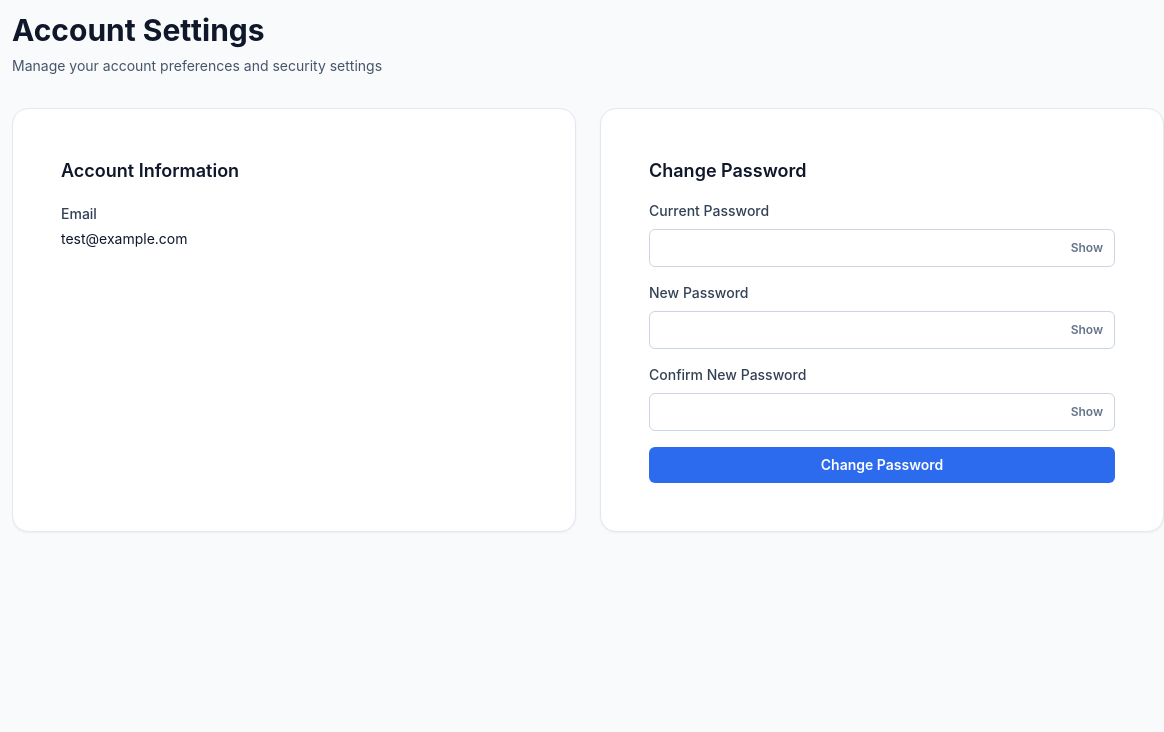
Test: AccountPage › shows error when new password is too short
In the password field labelled "Current Password": (882, 248) [649, 229, 1115, 267], type "currentpass123"
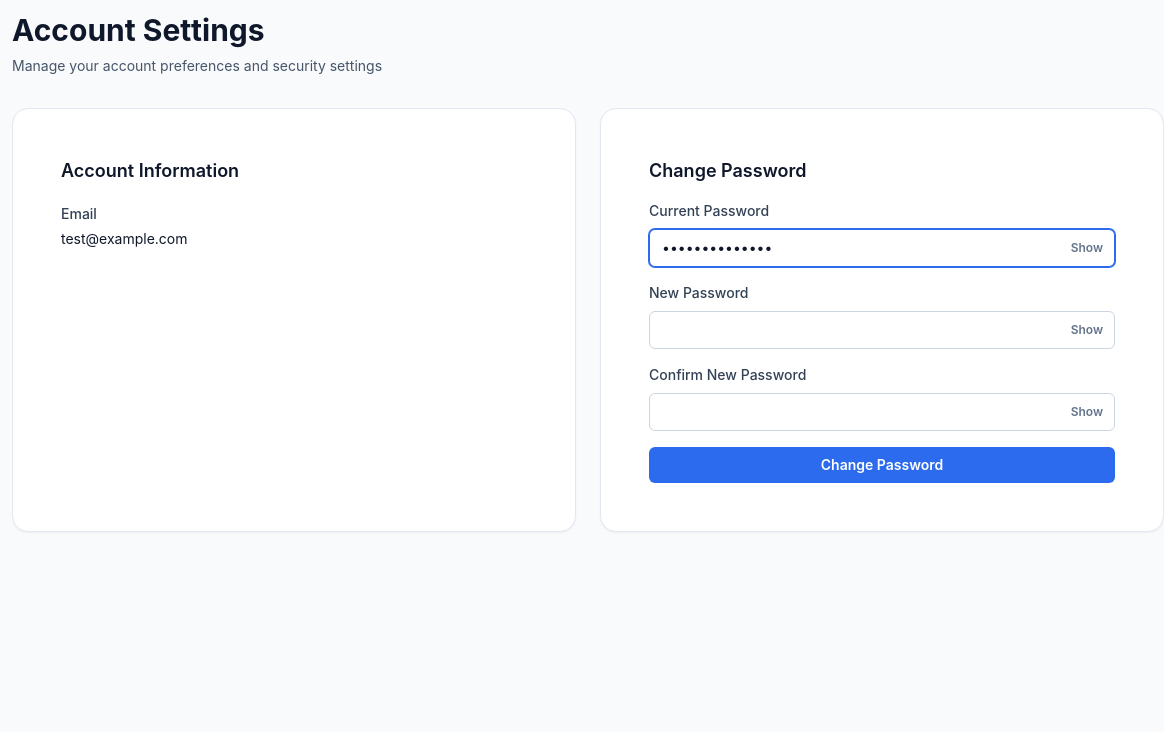
In the password field labelled "New Password": (882, 330) [649, 311, 1115, 349], type "short"
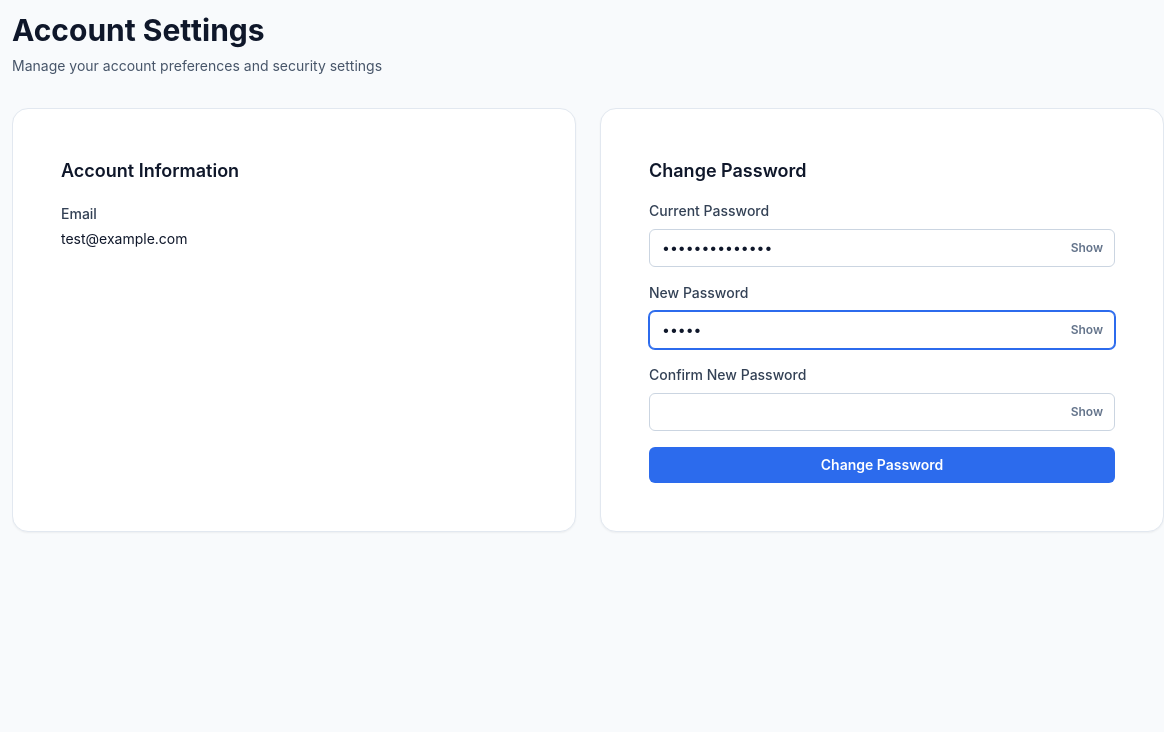
In the password field labelled "Confirm New Password": (882, 412) [649, 393, 1115, 431], type "short"
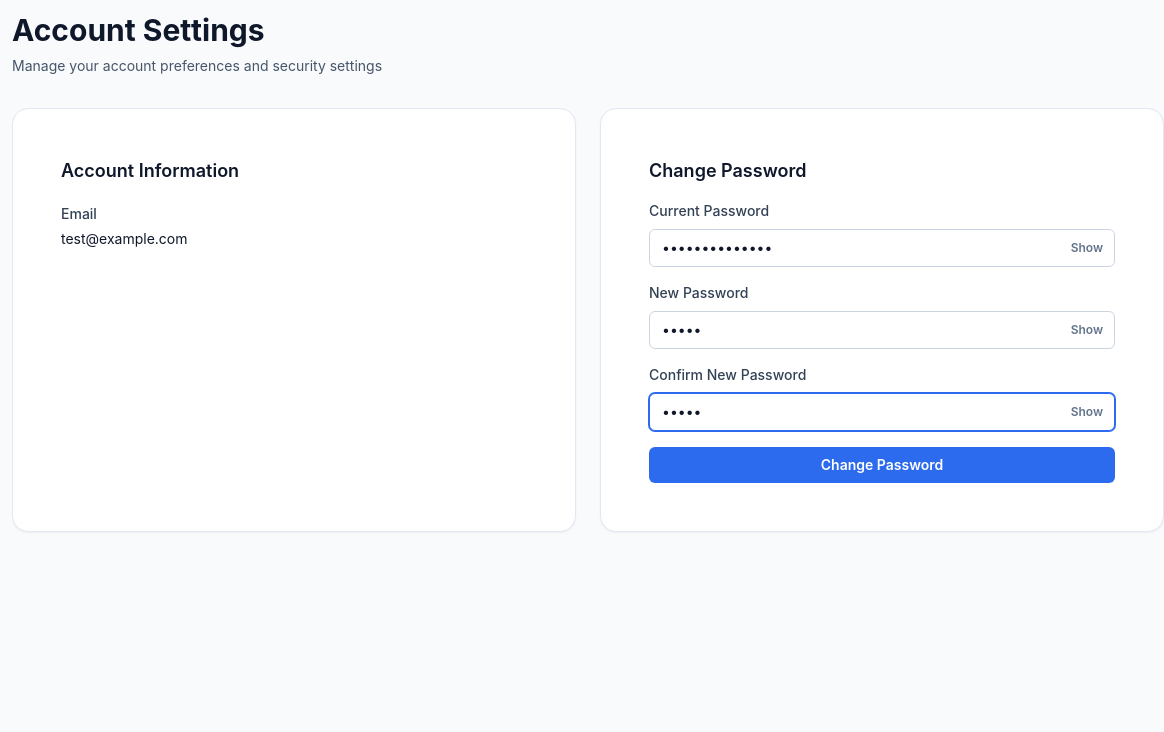
Click the button "Change Password": (882, 465) [649, 447, 1115, 483]
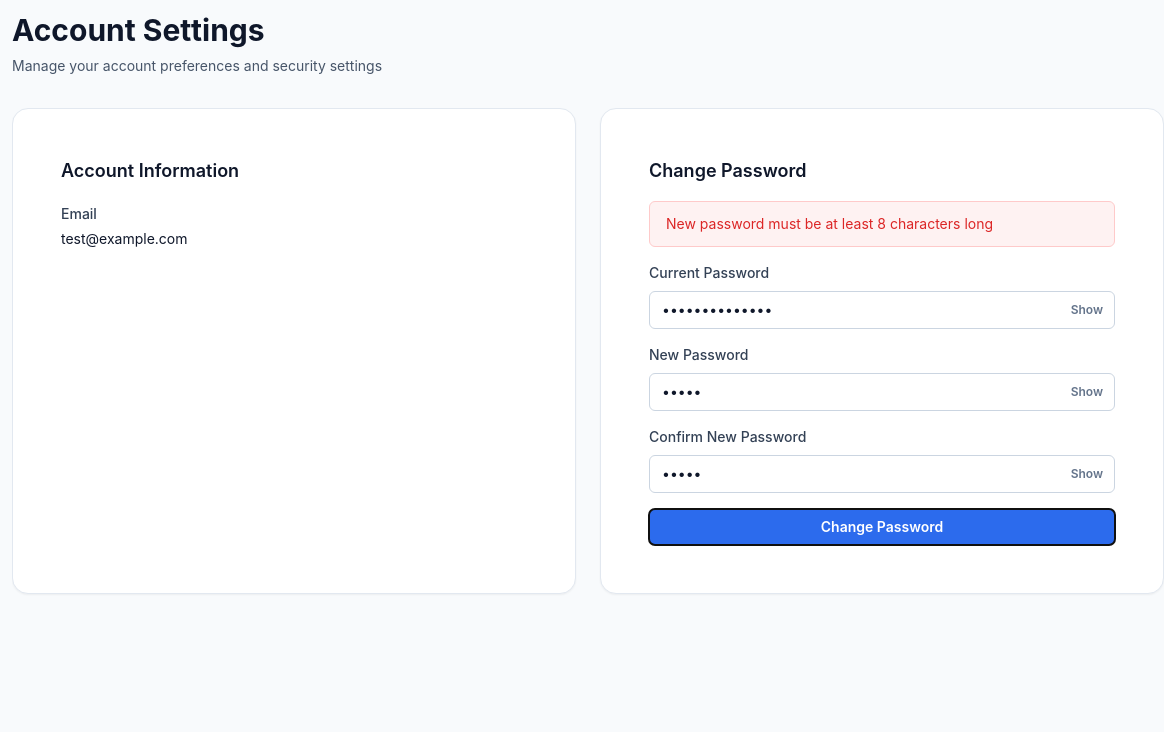
Now the text "New password must be at least 8 characters long" is shown, box [649, 201, 1115, 247]
